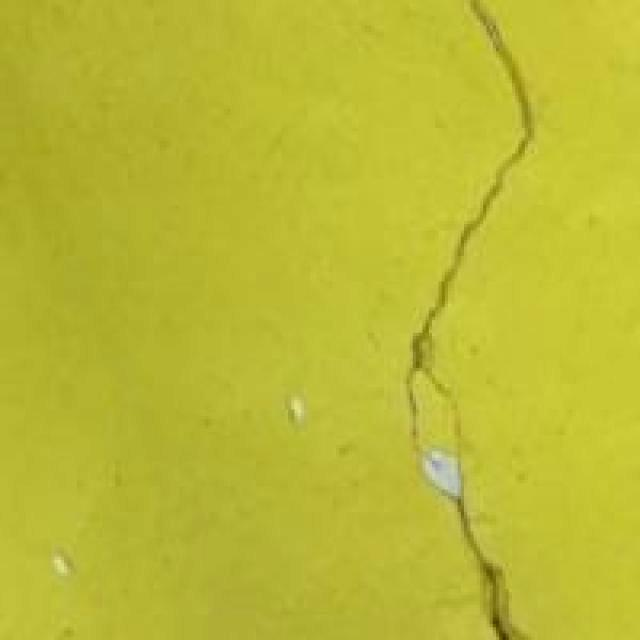crack: (386, 0, 556, 640)
